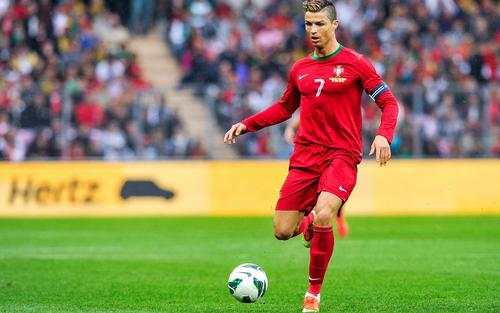football: (227, 263, 271, 303)
